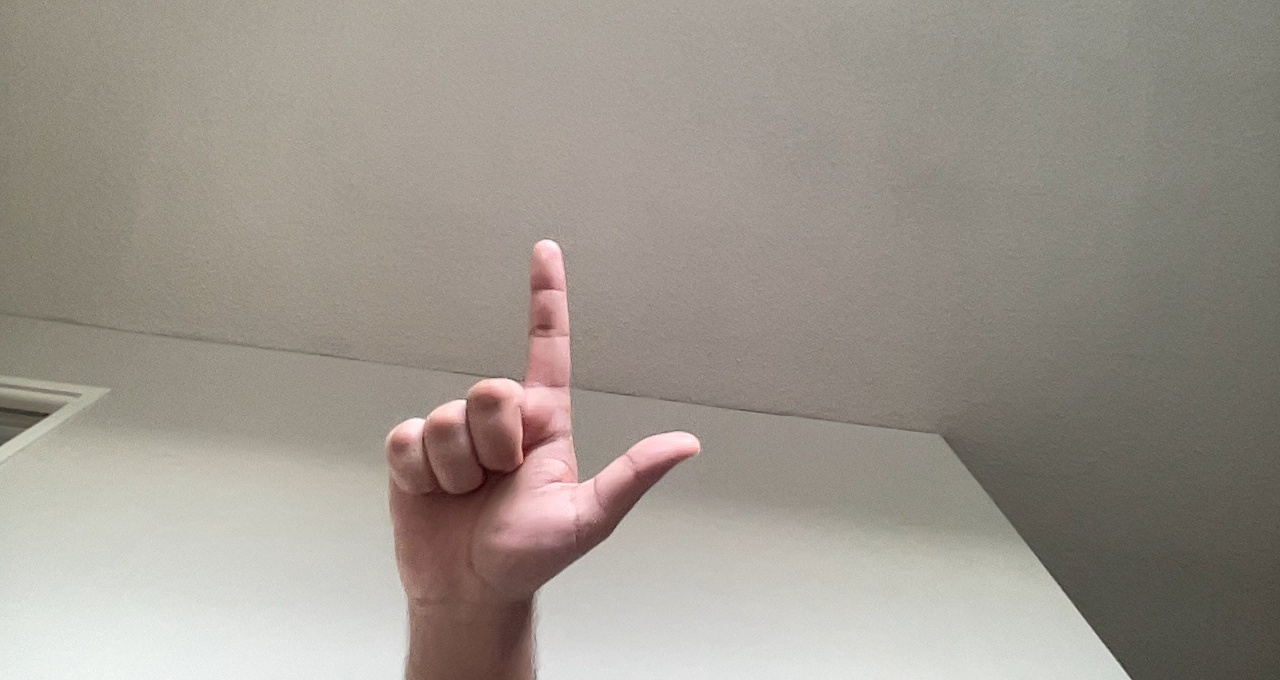L: (375, 234, 709, 623)
